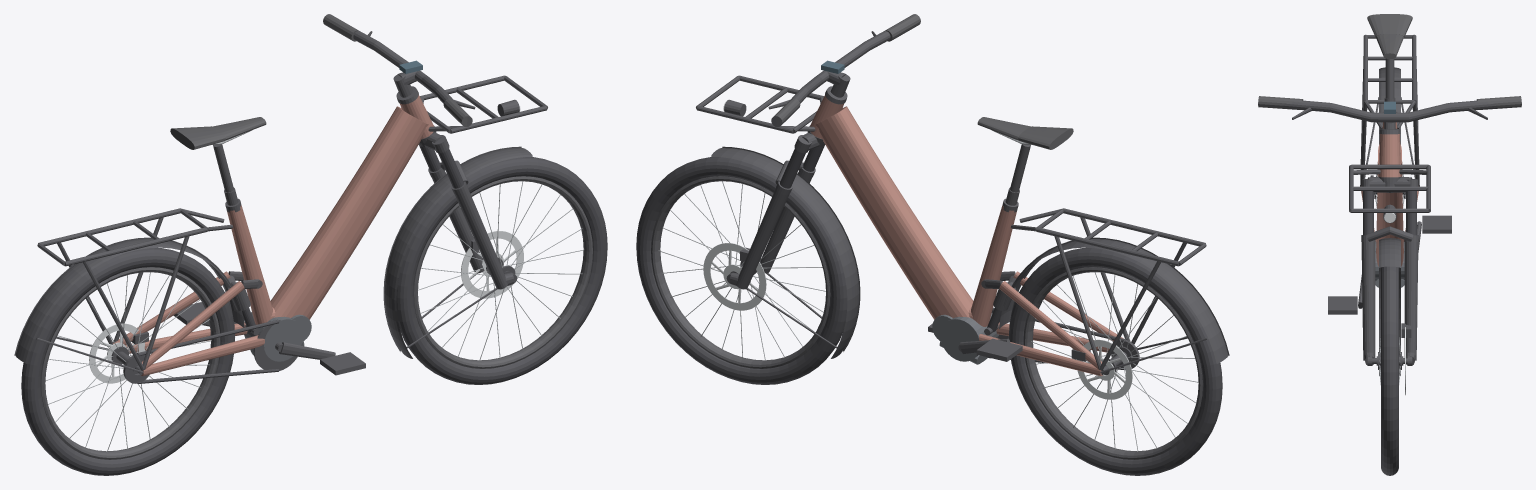
The model's file is ebike-mtb-conway-cairon-suv-fs-6-0-auto-wave.glb.
3 views of the same model, side by side, from view 1: azimuth 30°, elevation 25°; view 2: azimuth 150°, elevation 25°; view 3: azimuth 270°, elevation 25° (orthographic). The views are drawn at different scales.
Visible parts, largest first — view 1: front_wheel_tire, rear_wheel_tire, frame_lowstep_monotube, accessories_fenders, accessories_rear_rack, front_wheel_rim, rear_wheel_rim, fork_lowers, front_wheel_spokes, frame_seattube, rear_wheel_spokes, rear_chainstays (+12 smaller); view 2: front_wheel_tire, rear_wheel_tire, frame_lowstep_monotube, accessories_fenders, accessories_rear_rack, front_wheel_rim, rear_wheel_rim, fork_lowers, frame_seattube, rear_wheel_spokes, rear_seatstays, front_wheel_spokes (+10 smaller); view 3: fork_lowers, front_wheel_tire, cockpit_riser_bar, accessories_rear_rack, accessories_front_rack, accessories_fenders, drivetrain_crankset, saddle_shell, frame_lowstep_monotube, fork_stanchions, cockpit_grips, frame_headtube (+2 smaller).
Part boxes in pixels (left/top/right/bottom): front_wheel_tire: left=396, top=157, right=607, bottom=384; rear_wheel_tire: left=21, top=247, right=234, bottom=475; frame_lowstep_monotube: left=270, top=106, right=428, bottom=319; accessories_fenders: left=14, top=146, right=532, bottom=373; accessories_rear_rack: left=37, top=208, right=232, bottom=370; front_wheel_rim: left=413, top=176, right=592, bottom=368; rear_wheel_rim: left=41, top=267, right=220, bottom=459; fork_lowers: left=428, top=160, right=517, bottom=289; front_wheel_spokes: left=418, top=181, right=583, bottom=361; frame_seattube: left=227, top=205, right=272, bottom=324; rear_wheel_spokes: left=45, top=272, right=211, bottom=452; rear_chainstays: left=125, top=322, right=264, bottom=375; front_wheel_tire: left=636, top=157, right=847, bottom=384; rear_wheel_tire: left=1009, top=247, right=1222, bottom=475; frame_lowstep_monotube: left=815, top=106, right=973, bottom=319; accessories_fenders: left=711, top=146, right=1229, bottom=373; accessories_rear_rack: left=1011, top=208, right=1206, bottom=370; front_wheel_rim: left=651, top=176, right=830, bottom=368; rear_wheel_rim: left=1023, top=267, right=1202, bottom=459; fork_lowers: left=726, top=160, right=815, bottom=289; frame_seattube: left=971, top=205, right=1016, bottom=326; rear_wheel_spokes: left=1031, top=272, right=1198, bottom=451; rear_seatstays: left=999, top=271, right=1123, bottom=368; front_wheel_spokes: left=658, top=181, right=825, bottom=360; fork_lowers: left=1361, top=226, right=1418, bottom=365; front_wheel_tire: left=1381, top=266, right=1398, bottom=475; cockpit_riser_bar: left=1258, top=100, right=1521, bottom=122; accessories_rear_rack: left=1360, top=34, right=1419, bottom=186; accessories_front_rack: left=1349, top=164, right=1430, bottom=212; accessories_fenders: left=1364, top=67, right=1415, bottom=375; drivetrain_crankset: left=1328, top=215, right=1451, bottom=314; saddle_shell: left=1367, top=14, right=1412, bottom=58; frame_lowstep_monotube: left=1376, top=144, right=1403, bottom=266; fork_stanchions: left=1363, top=191, right=1416, bottom=235; cockpit_grips: left=1258, top=96, right=1521, bottom=109; frame_headtube: left=1378, top=134, right=1401, bottom=177.
Size of the model in its own units: 1.9 by 1.05 by 0.7846.
